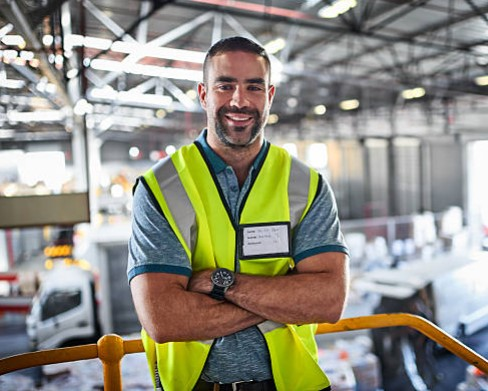worker: (135, 39, 332, 391)
